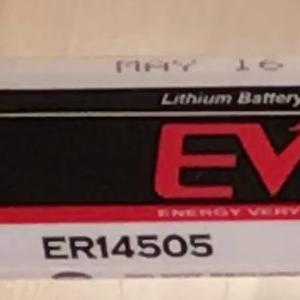keyword: (152, 86, 240, 114)
